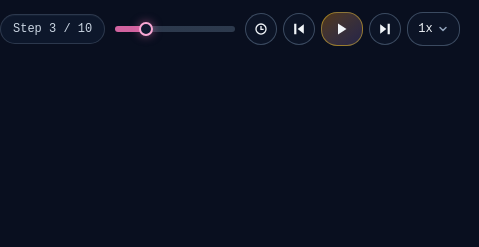
Test case: TransportControls › opens the speed menu and selects a speed
Click the button named "Playback speed: 1x".
click(433, 29)  # box [407, 12, 460, 46]
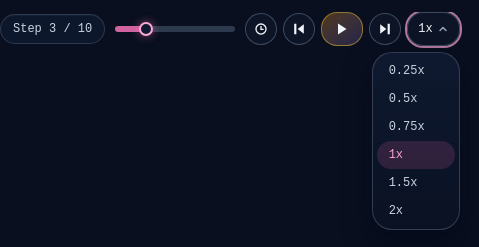
Check: the button named "Playback speed: 1x" is expanded, box [407, 12, 460, 46]
Check: the options read "0.25x", "0.5x", "0.75x", "1x", "1.5x", "2x", in this order
Click the option "2x".
click(416, 211)  # box [377, 197, 455, 225]
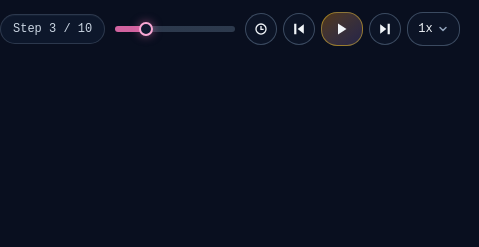
Check: the list is gone
